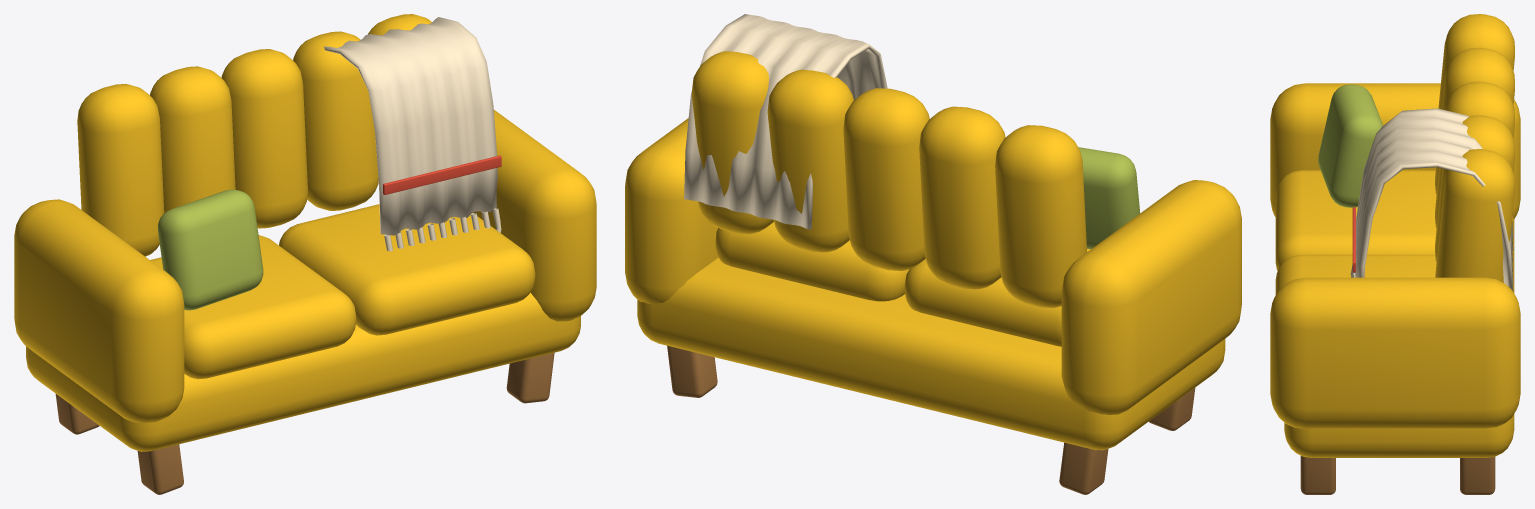
The model's file is easy_couch_03.fbx.
3 renders of one model, left to right at view 1: azimuth 30°, elevation 25°; view 2: azimuth 150°, elevation 25°; view 3: azimuth 270°, elevation 25°, orthographic. The views are drawn at different scales.
Parts seen in each view (by area): view 1: EC03_LOD0; view 2: EC03_LOD0; view 3: EC03_LOD0.
Boxes of the visible parts, x1,y1,x2,y2 form: EC03_LOD0: [14, 14, 596, 494]; EC03_LOD0: [625, 14, 1241, 494]; EC03_LOD0: [1270, 14, 1520, 494].
Size of what is drawn, in the model's own units: 2.12 by 1.41 by 0.99.
